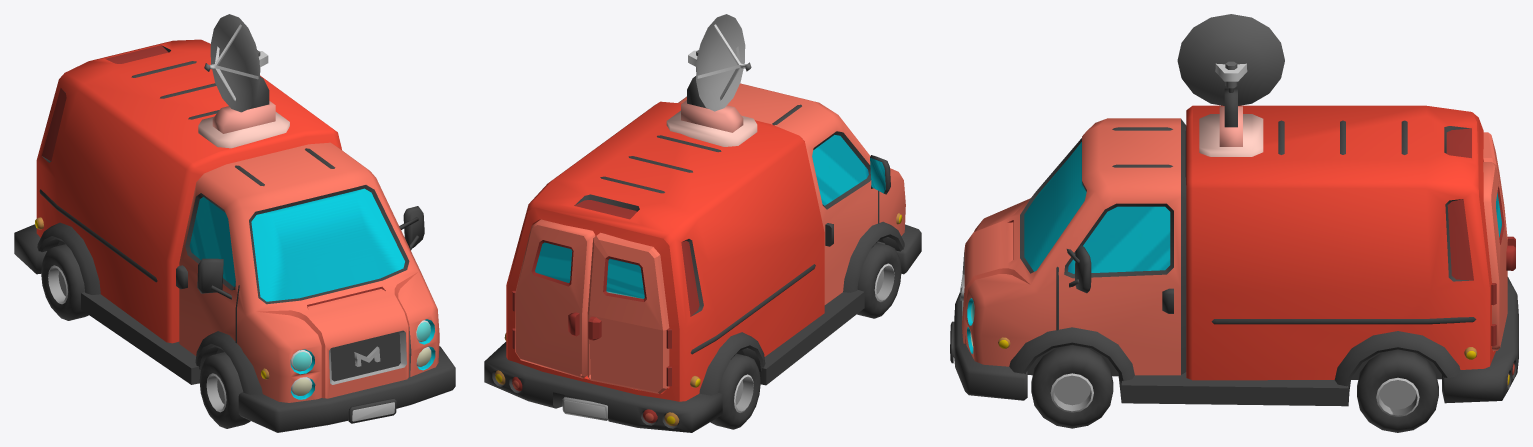
Rendered from VehicleTV.fbx.
The picture shows the model from 3 angles, left to right: view 1: azimuth 30°, elevation 25°; view 2: azimuth 150°, elevation 25°; view 3: azimuth 270°, elevation 25°; orthographic projection. The views are drawn at different scales.
Visible parts, largest first — view 1: Car_2D, Receiver_2D, Wheel_2D_F.R, Wheel_2D_R.R; view 2: Car_2D, Door_2D_R.R, Door_2D_R.L, Receiver_2D, Wheel_2D_R.R, Wheel_2D_F.R; view 3: Car_2D, Receiver_2D, Wheel_2D_F.L, Wheel_2D_R.L, Door_2D_R.L, Door_2D_R.R.
Part boxes in pixels (x1,y1,x2,y2): Car_2D: (14,39,455,432); Receiver_2D: (204,14,268,112); Wheel_2D_F.R: (199,352,250,428); Wheel_2D_R.R: (41,244,88,320); Car_2D: (484,76,921,432); Door_2D_R.R: (587,232,671,393); Door_2D_R.L: (512,219,595,378); Receiver_2D: (688,14,751,111); Wheel_2D_R.R: (710,353,760,429); Wheel_2D_F.R: (857,242,901,318); Car_2D: (950,88,1518,406); Receiver_2D: (1177,14,1284,105); Wheel_2D_F.L: (1031,345,1113,428); Wheel_2D_R.L: (1357,349,1438,432); Door_2D_R.L: (1483,162,1515,350); Door_2D_R.R: (1483,132,1515,247).
Bounding box in the file's own units: 274 × 387 × 554.
